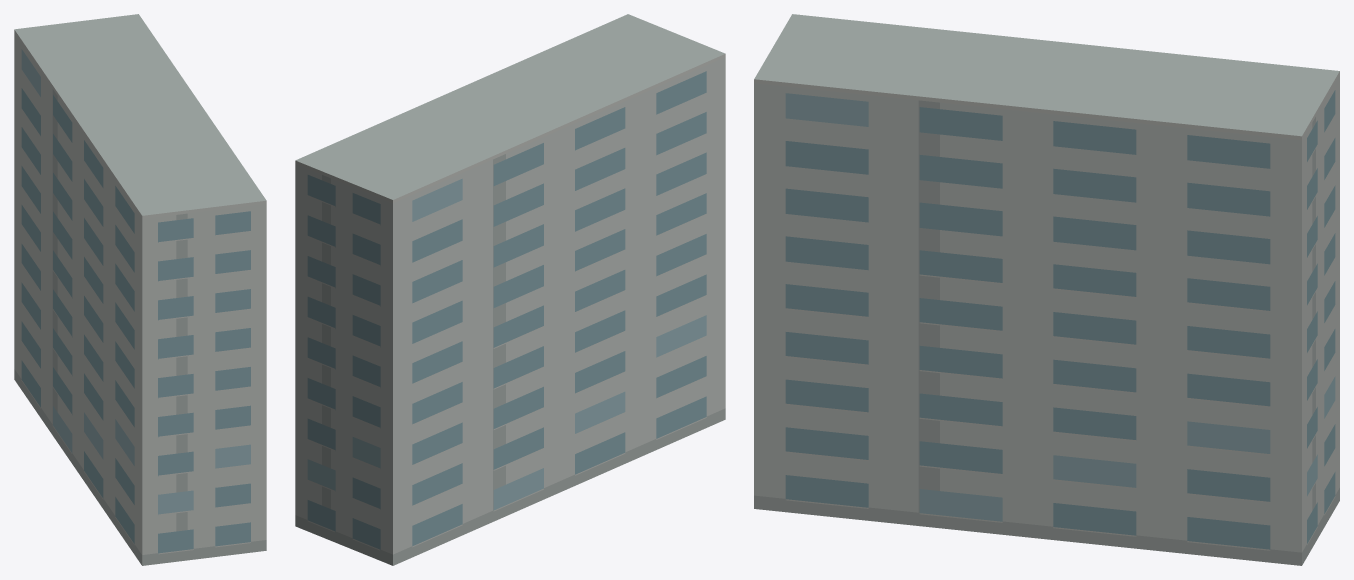
The model's file is residential-4b5dc2ad-9aed-4939-84bd-728402b2744d.glb.
The picture shows the model from 3 angles, left to right: view 1: azimuth 30°, elevation 25°; view 2: azimuth 150°, elevation 25°; view 3: azimuth 270°, elevation 25°; orthographic projection. The views are drawn at different scales.
Visible parts, largest first — view 1: residential-4b5dc2ad-9aed-4939-84bd-728402b2744d.tmp; view 2: residential-4b5dc2ad-9aed-4939-84bd-728402b2744d.tmp; view 3: residential-4b5dc2ad-9aed-4939-84bd-728402b2744d.tmp.
Boxes of the visible parts, bbox=[...] form: residential-4b5dc2ad-9aed-4939-84bd-728402b2744d.tmp: bbox=[14, 14, 266, 565]; residential-4b5dc2ad-9aed-4939-84bd-728402b2744d.tmp: bbox=[295, 14, 725, 565]; residential-4b5dc2ad-9aed-4939-84bd-728402b2744d.tmp: bbox=[754, 14, 1339, 565].
Bounding box in the file's own units: 15.88 × 26 × 32.14.
